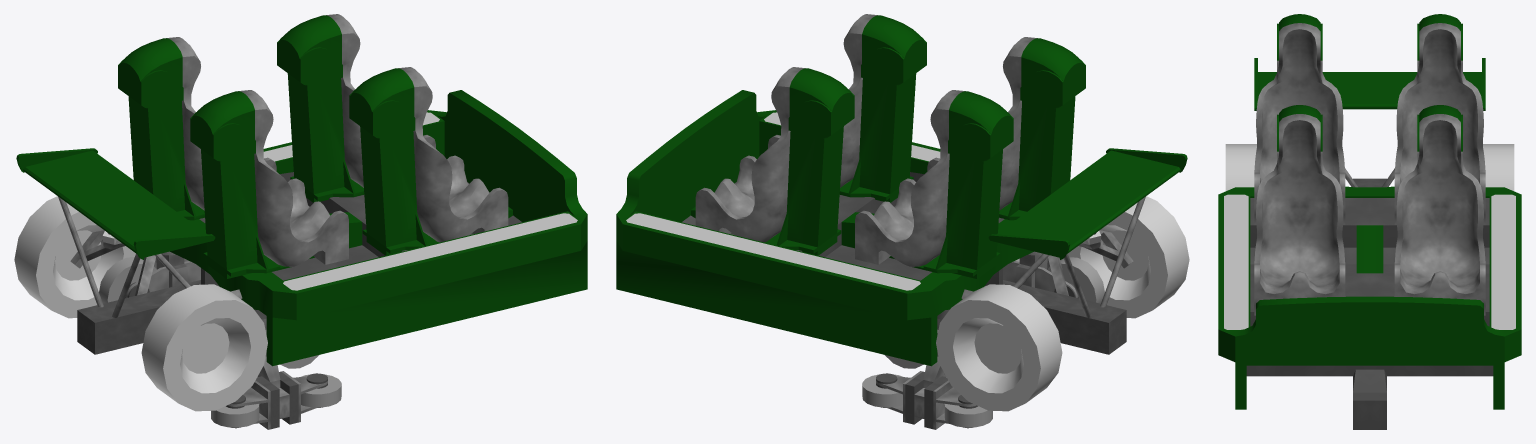
File: rear_car_race.obj
3 renders of one model, left to right at view 1: azimuth 30°, elevation 25°; view 2: azimuth 150°, elevation 25°; view 3: azimuth 270°, elevation 25°, orthographic. The views are drawn at different scales.
Parts seen in each view (by area): view 1: car, RaceRear; view 2: car, RaceRear; view 3: car, RaceRear.
Part boxes in pixels (x1,y1,x2,y2): car: (99, 14, 587, 429); RaceRear: (14, 148, 267, 411); car: (616, 14, 1104, 429); RaceRear: (936, 148, 1189, 411); car: (1218, 14, 1521, 429); RaceRear: (1225, 58, 1514, 190).
Bounding box in the file's own units: 2.81 × 1.74 × 1.6.
